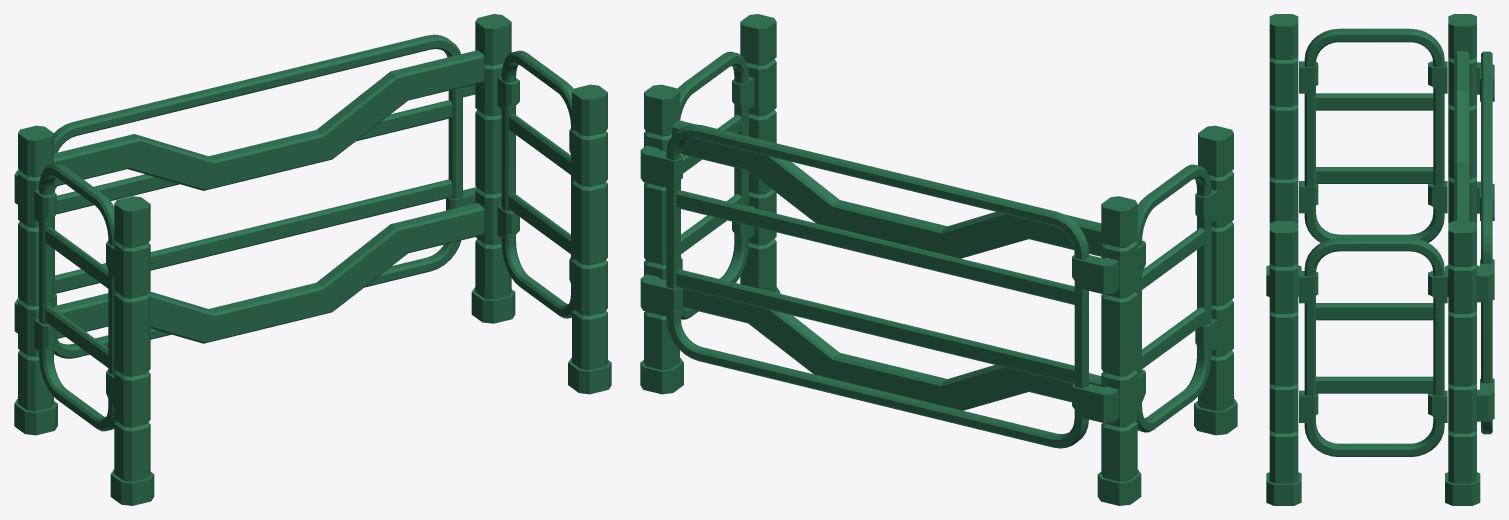
File: UTypeStair_Rama_Low.FBX
3 views of the same model, side by side, from view 1: azimuth 30°, elevation 25°; view 2: azimuth 150°, elevation 25°; view 3: azimuth 270°, elevation 25° (orthographic). The views are drawn at different scales.
Parts seen in each view (by area): view 1: UTypeStair_Rama_Low; view 2: UTypeStair_Rama_Low; view 3: UTypeStair_Rama_Low.
Part boxes in pixels (left/top/right/bottom): UTypeStair_Rama_Low: left=14, top=14, right=611, bottom=505; UTypeStair_Rama_Low: left=640, top=14, right=1237, bottom=505; UTypeStair_Rama_Low: left=1266, top=14, right=1494, bottom=505.
Bounding box in the file's own units: 456 × 260 × 198.
